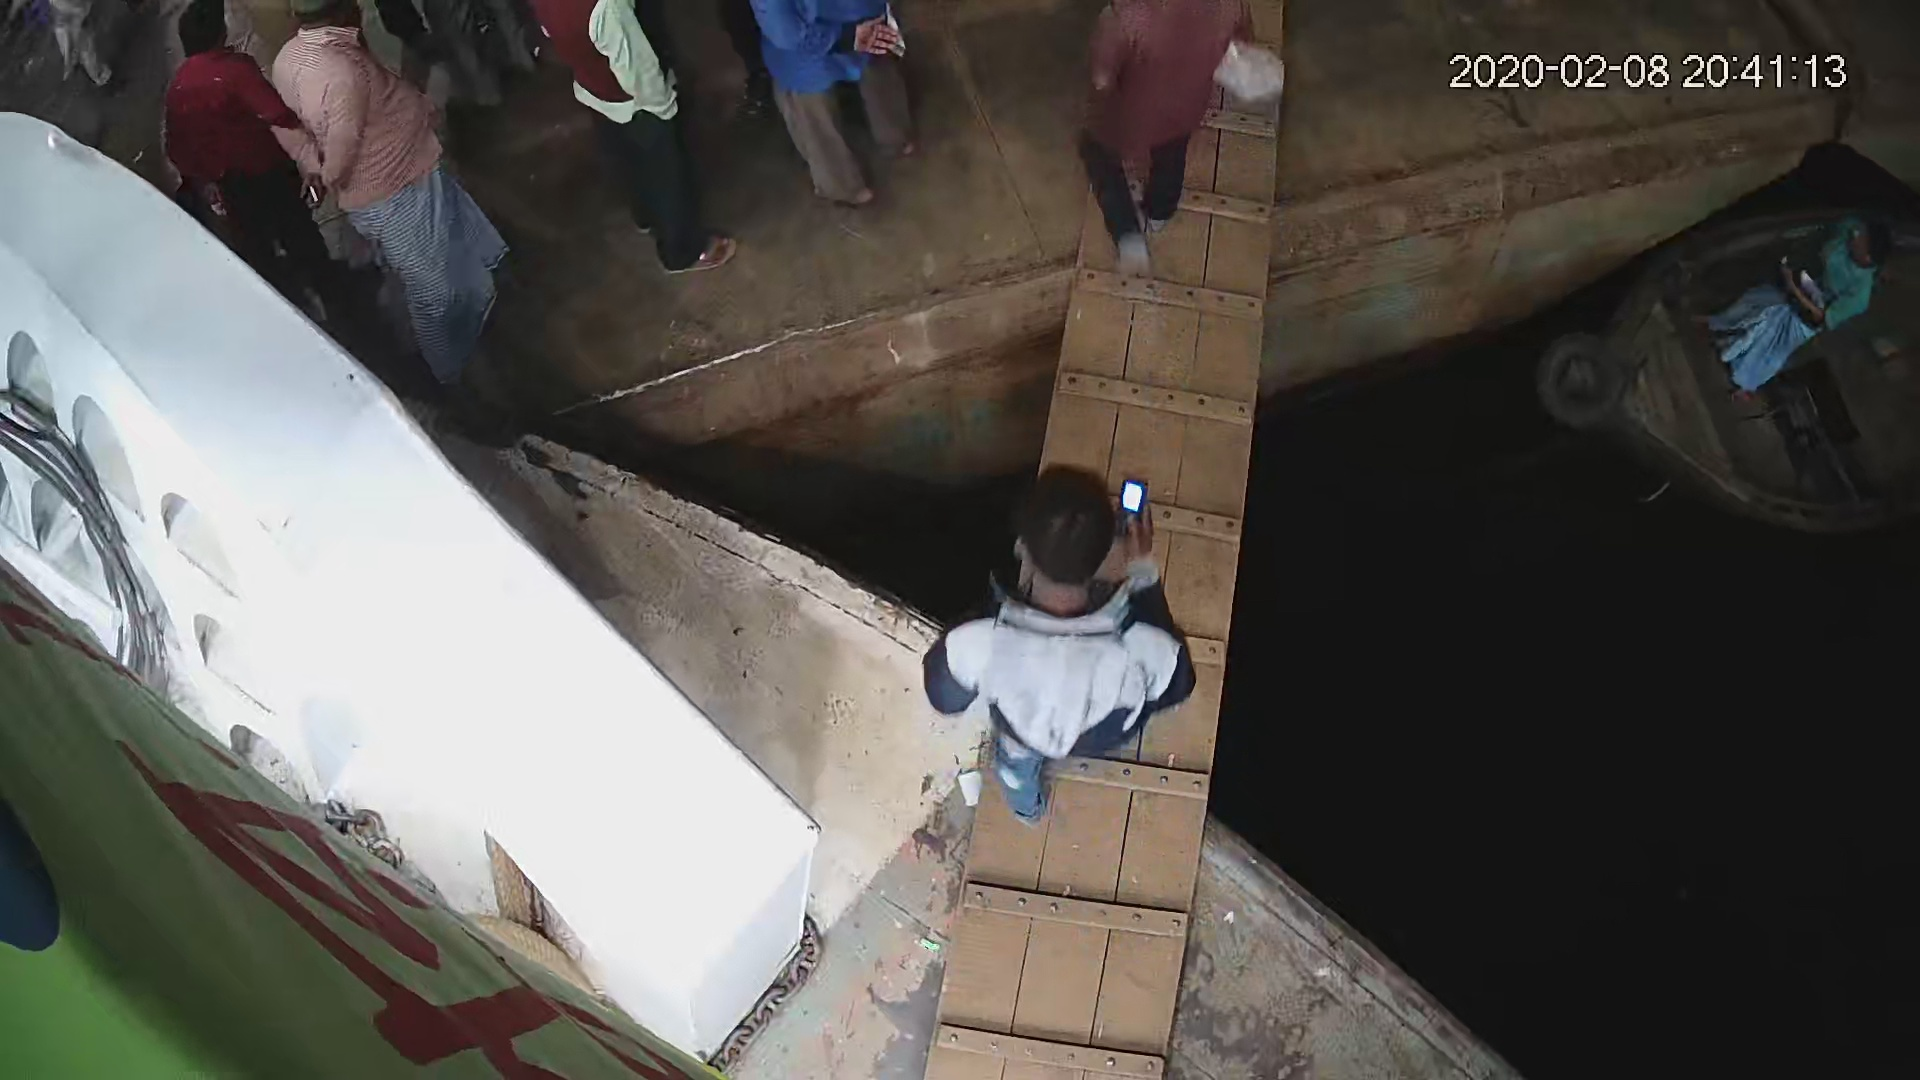person: (919, 461, 1200, 832), (269, 1, 525, 399), (148, 5, 361, 324), (529, 1, 740, 280), (1064, 1, 1256, 286), (1704, 216, 1892, 393)
